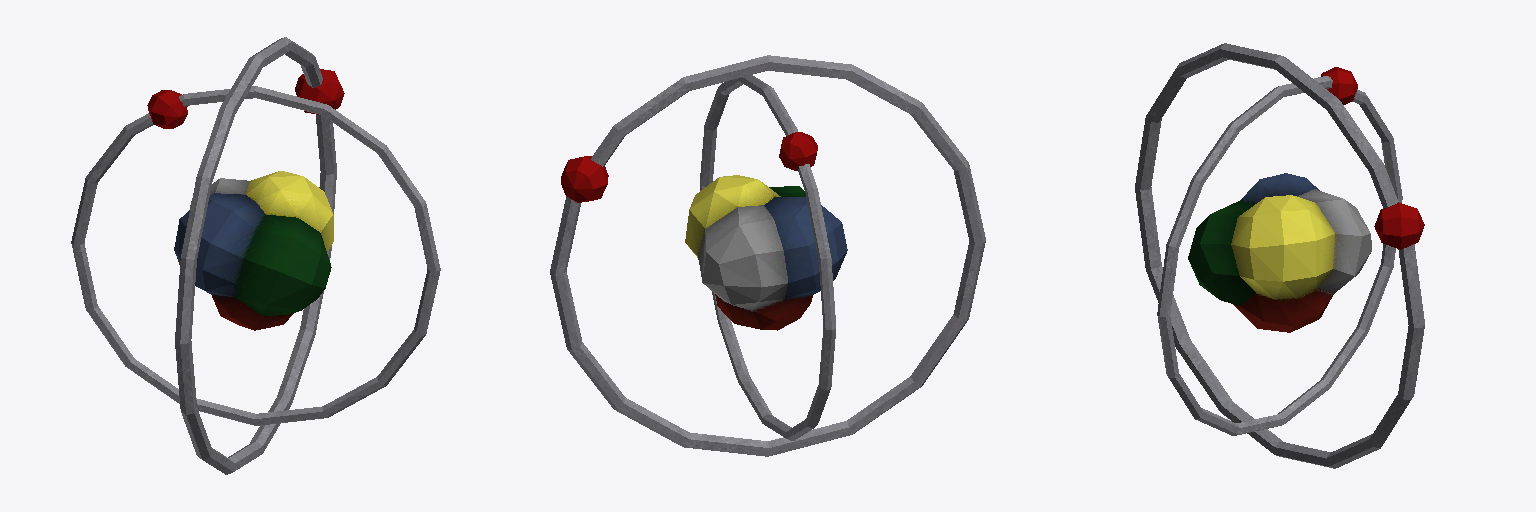
3 views of the same model, side by side, from view 1: azimuth 30°, elevation 25°; view 2: azimuth 150°, elevation 25°; view 3: azimuth 270°, elevation 25° (orthographic).
Visible parts, largest first — view 1: unwrapped2, Object09, Object10, Object11, Object12; view 2: Object09, unwrapped2, Object10, Object12, Object11; view 3: unwrapped2, Object09, Object10, Object12, Object11.
Part boxes in pixels (bbox=[...]): unwrapped2: bbox=[174, 171, 333, 330]; Object09: bbox=[175, 37, 336, 474]; Object10: bbox=[71, 86, 440, 425]; Object11: bbox=[147, 90, 187, 128]; Object12: bbox=[295, 69, 344, 114]; Object09: bbox=[550, 55, 985, 456]; unwrapped2: bbox=[685, 175, 847, 330]; Object10: bbox=[700, 75, 835, 440]; Object12: bbox=[561, 156, 608, 202]; Object11: bbox=[779, 132, 817, 170]; unwrapped2: bbox=[1188, 173, 1371, 332]; Object09: bbox=[1135, 43, 1424, 468]; Object10: bbox=[1157, 76, 1402, 435]; Object12: bbox=[1374, 202, 1424, 249]; Object11: bbox=[1321, 67, 1357, 104].
Bounding box in the file's own units: 27.27 × 35.32 × 23.15.
1 materials, 1 textured.